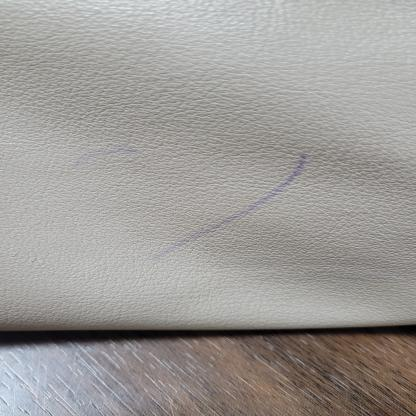spot: (209, 210, 252, 227), (291, 152, 309, 184), (267, 183, 293, 197), (246, 198, 270, 211), (199, 229, 211, 240)
